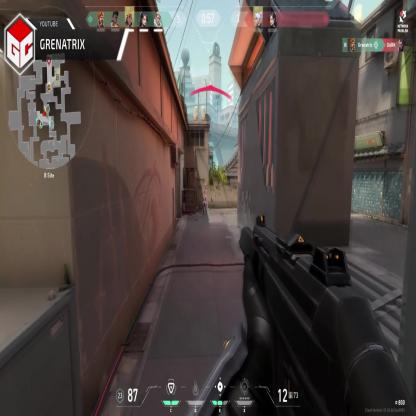enemy: (203, 190, 208, 214)
enemy_head: (203, 190, 206, 193)
